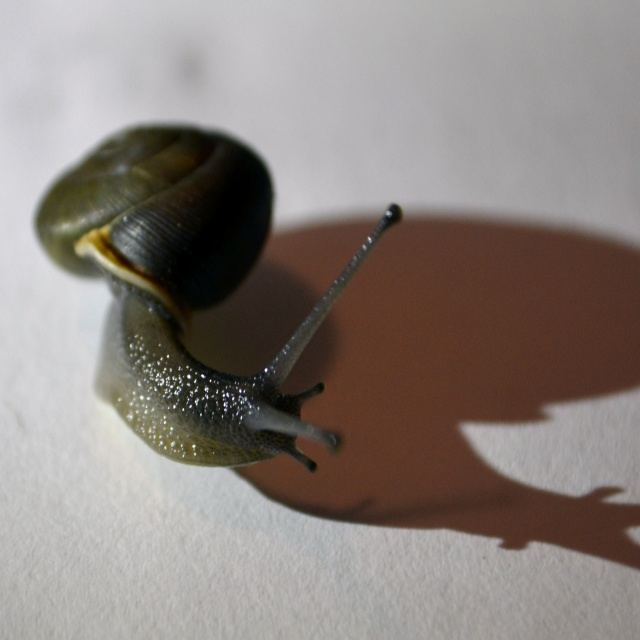Snail: (32, 117, 406, 474)
